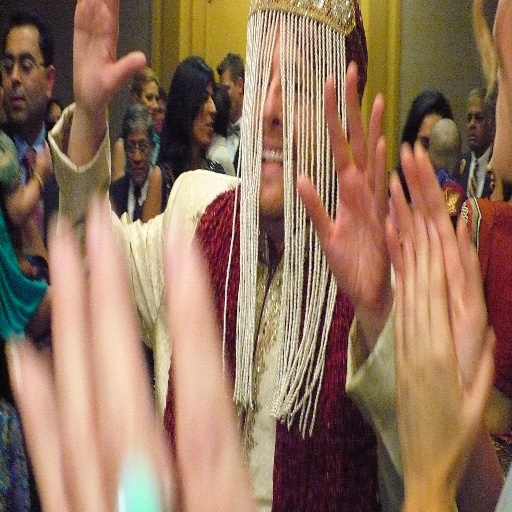hand: (3, 188, 258, 511), (392, 208, 496, 506), (382, 135, 489, 391), (295, 60, 391, 313), (70, 0, 148, 119), (35, 139, 52, 181)
